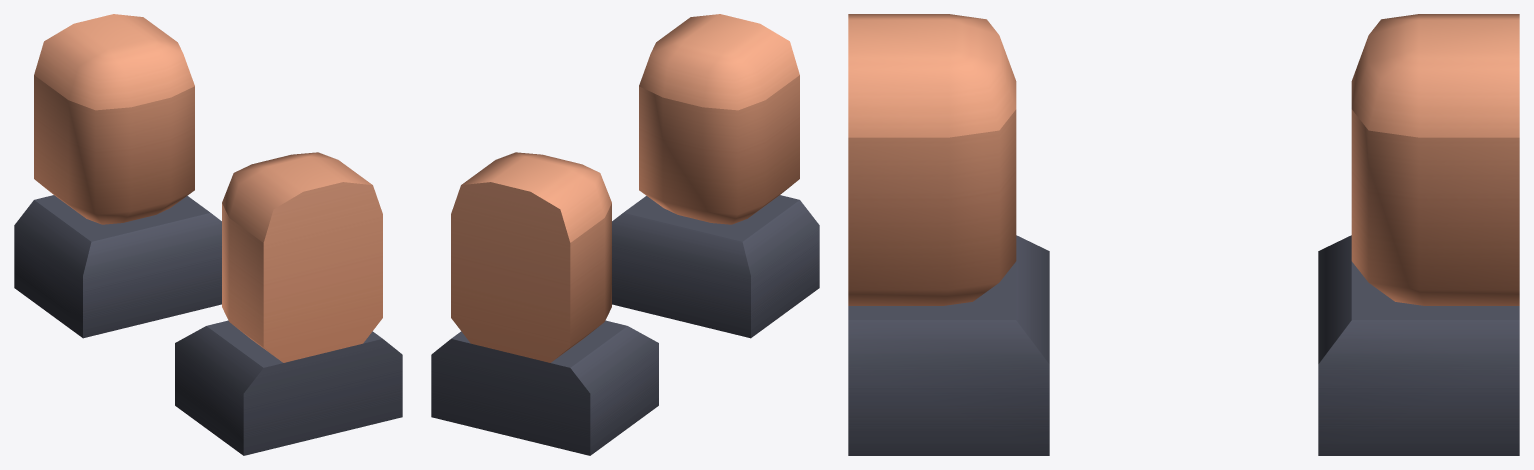
The model's file is hedge-large-gate.glb.
The picture shows the model from 3 angles, left to right: view 1: azimuth 30°, elevation 25°; view 2: azimuth 150°, elevation 25°; view 3: azimuth 270°, elevation 25°; orthographic projection. The views are drawn at different scales.
Parts seen in each view (by area): view 1: hedge-large-gate; view 2: hedge-large-gate; view 3: hedge-large-gate.
Boxes of the visible parts, box(x1,y1,x2,y2) form: hedge-large-gate: box(14, 14, 402, 455); hedge-large-gate: box(431, 14, 819, 455); hedge-large-gate: box(848, 14, 1519, 455).
Size of the model in its own units: 0.4 by 0.6 by 1.
Materials: 1 (1 with a texture image).
